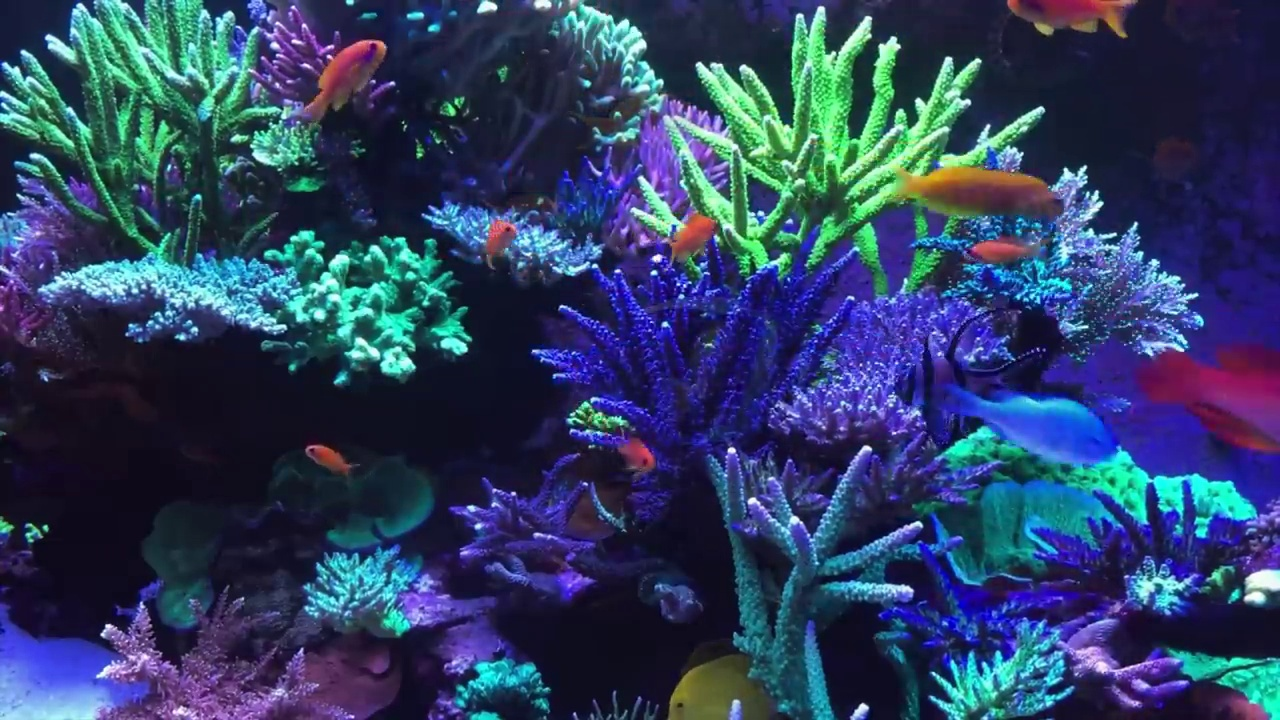fish: (892, 307, 1053, 445), (1145, 342, 1280, 458), (937, 384, 1111, 463), (888, 163, 1067, 222), (665, 651, 785, 720), (305, 37, 386, 125), (1003, 1, 1141, 36), (664, 212, 718, 271), (959, 239, 1048, 266), (303, 439, 359, 478), (482, 219, 518, 274), (615, 436, 656, 476)
